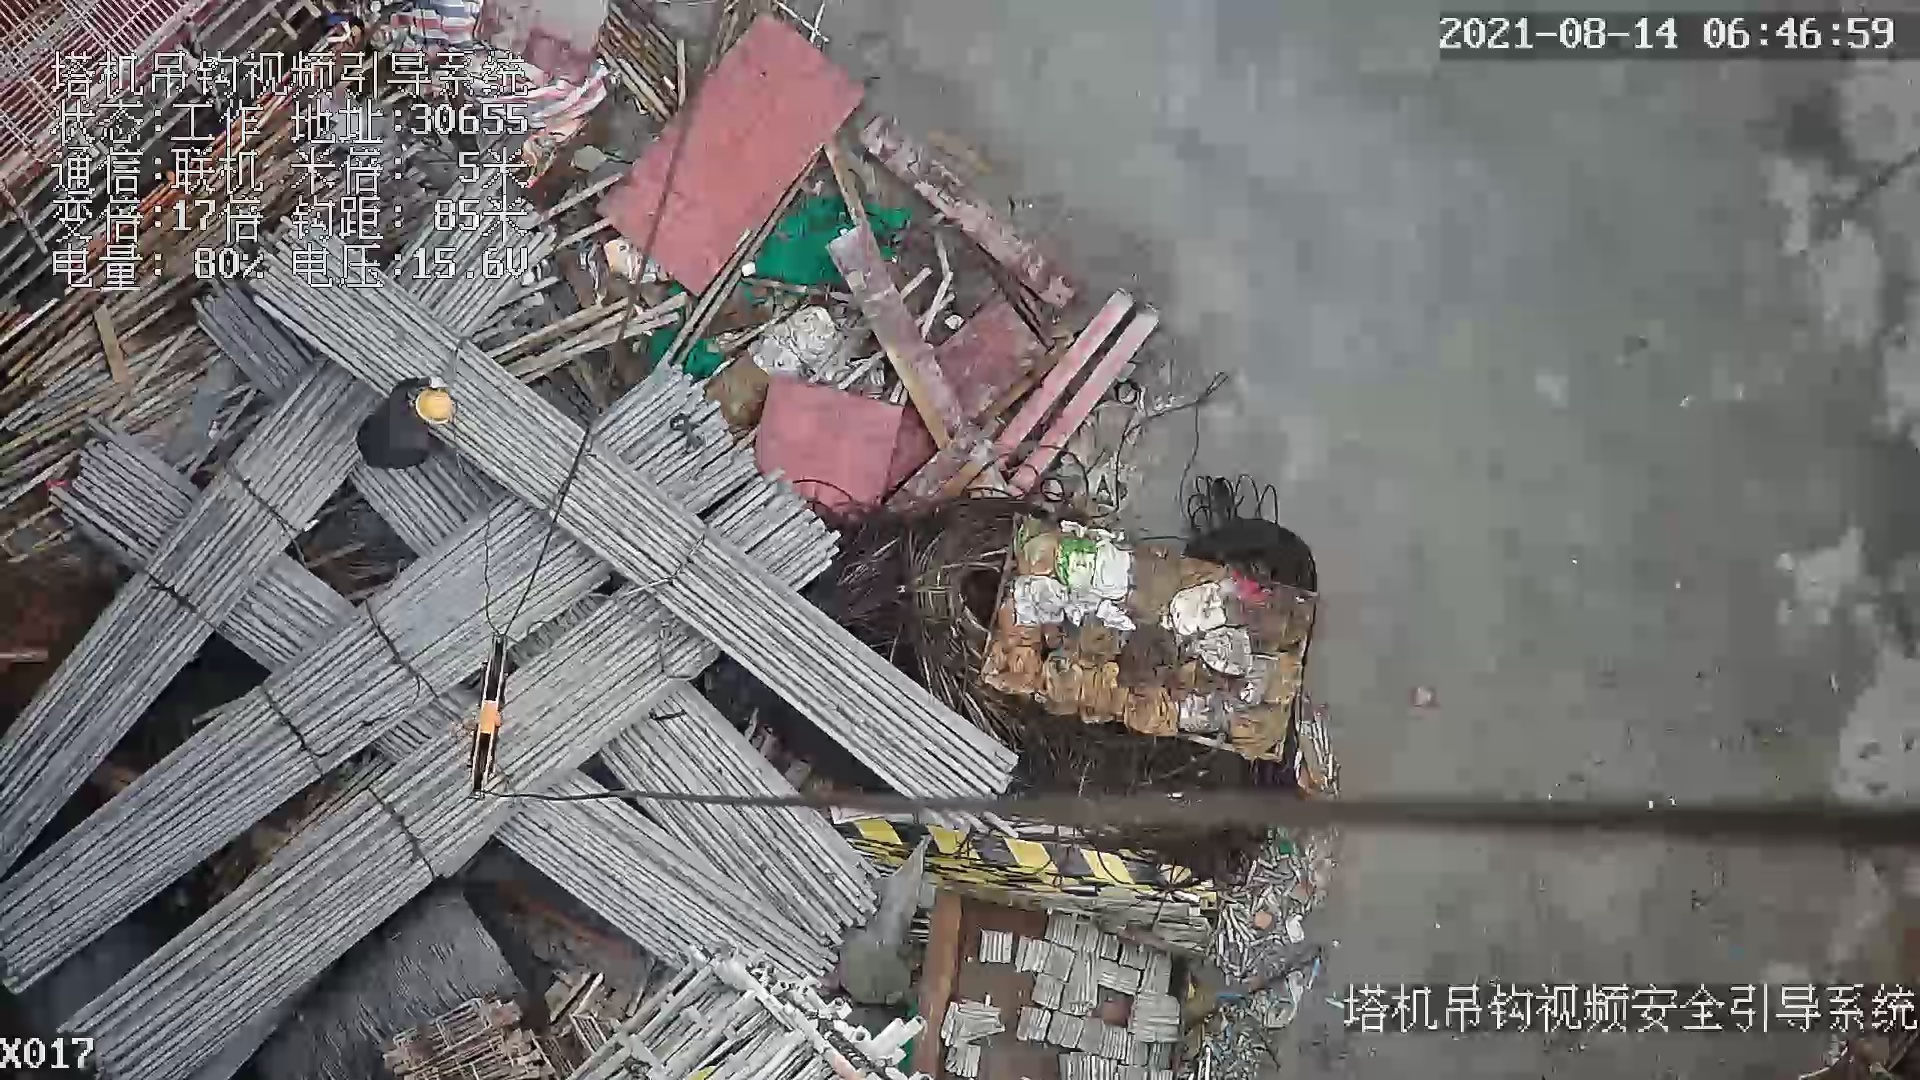board: (591, 2, 867, 308)
helmet: (415, 389, 460, 430)
hook: (468, 628, 515, 814)
person: (355, 368, 460, 462)
